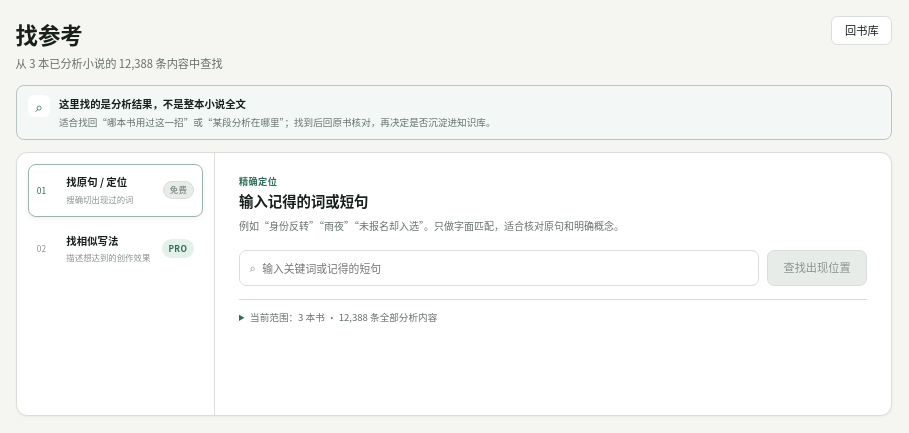
Test: 找参考 › 搜之前就将两种找法拆开，并说清楚各自覆盖多少
Expected: the heading with test id "cb-hint" shows "12,388", [250, 310, 437, 324]
Click the tab with test id "cb-mode-meaning" at (115, 248), box [28, 222, 203, 275]
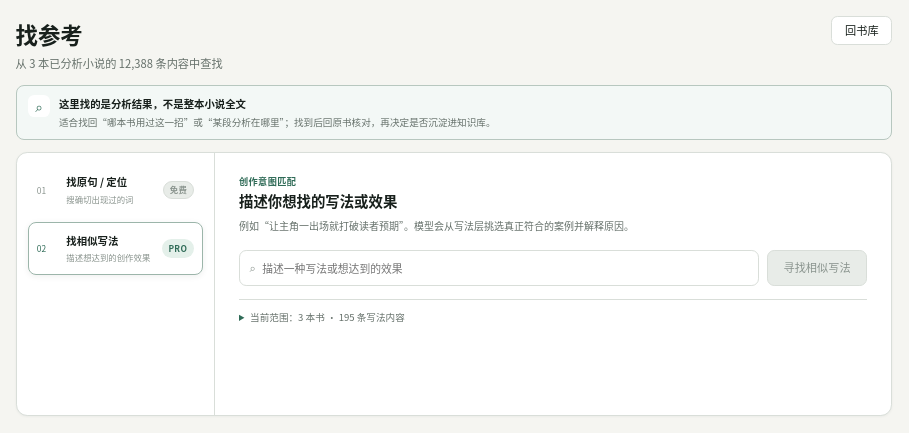
Expected: the tab with test id "cb-mode-keyword" shows "找原句 / 定位", [28, 164, 203, 216]
Now the heading with test id "cb-hint" shows "195", box [250, 310, 405, 324]
